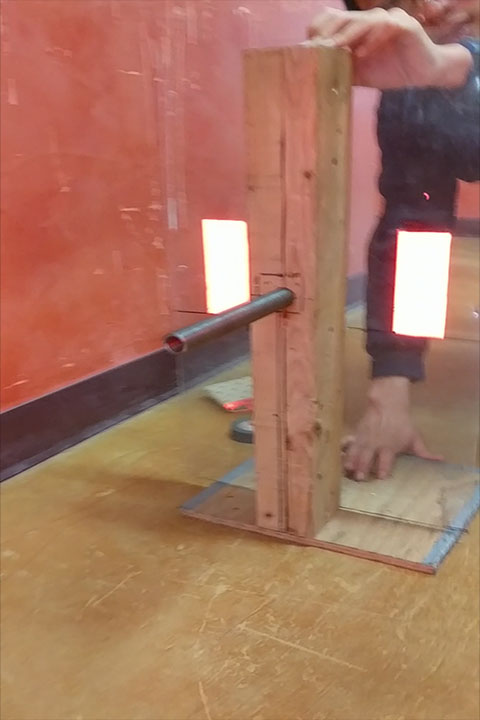gear: (392, 228, 451, 342), (201, 219, 251, 315)
